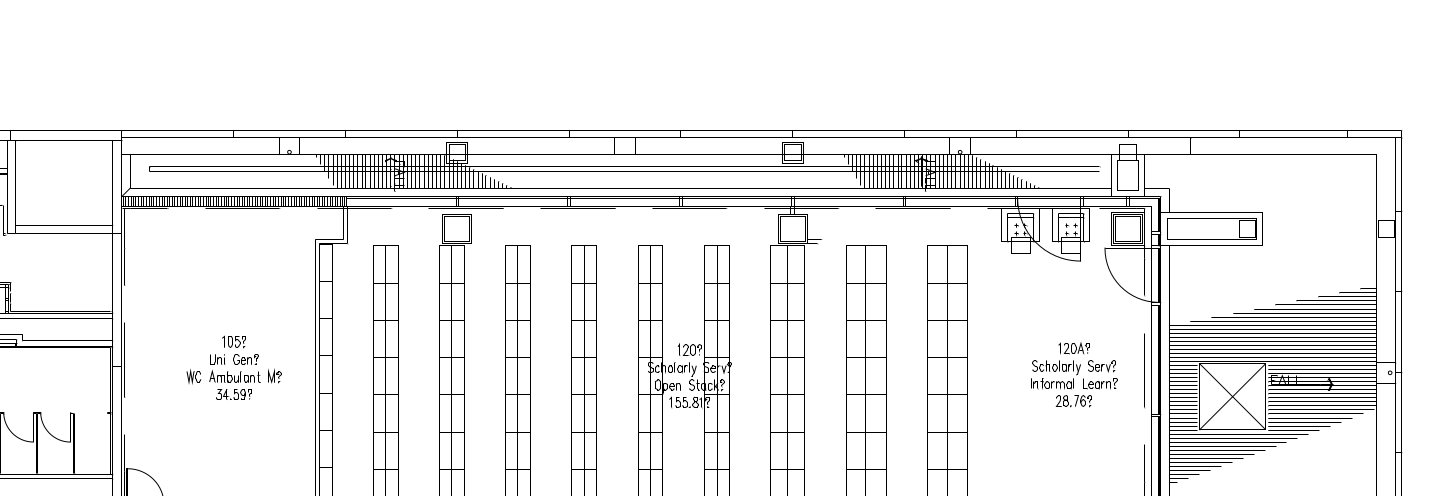door: (1102, 246, 1151, 307), (123, 458, 170, 496), (2, 408, 35, 446), (37, 409, 70, 447)
